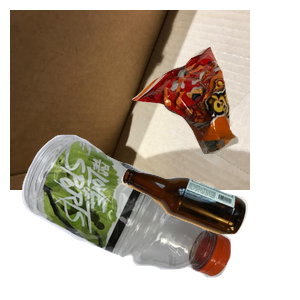cardboard: (10, 10, 250, 190)
glass: (119, 166, 300, 300)
plastic: (19, 132, 242, 300)
trash: (130, 43, 300, 190)
